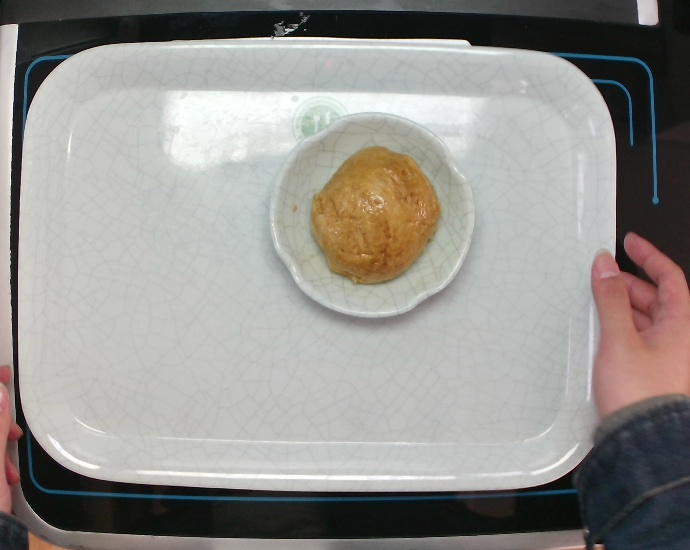JYsf-Ao_Yuan_Wan: (264, 105, 480, 325)
